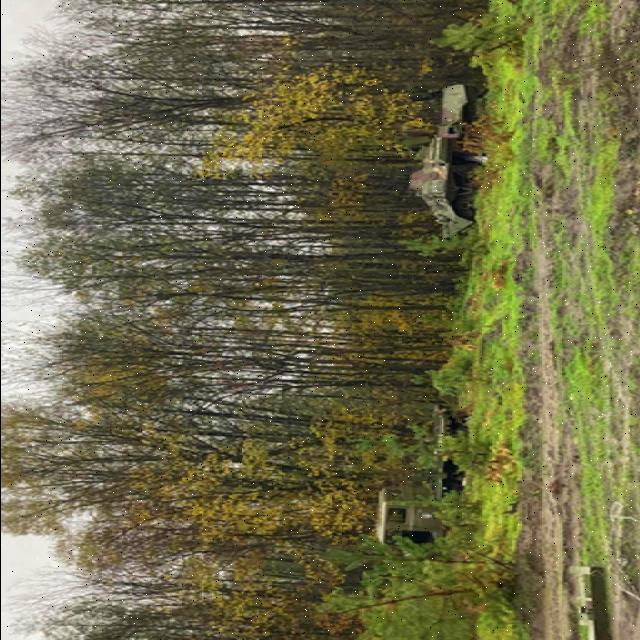APC-IFV: (398, 81, 498, 241)
TRUCK: (366, 402, 481, 554)
